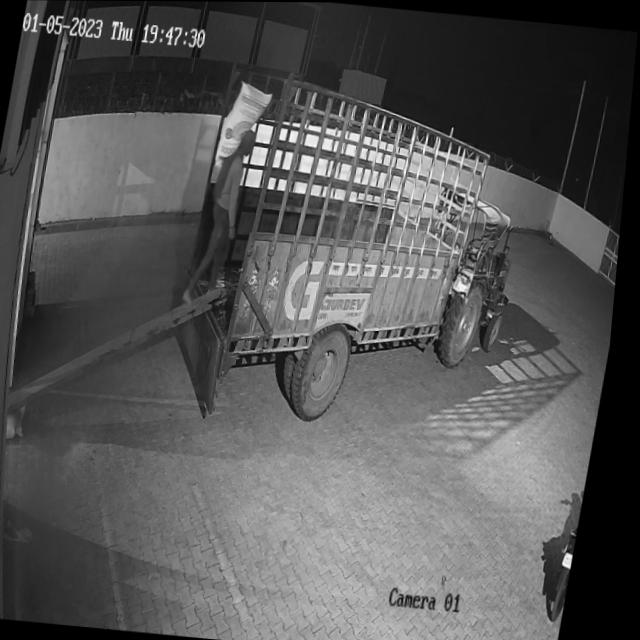sack: (217, 80, 275, 159)
